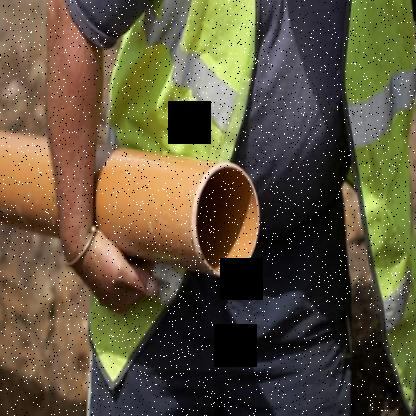pipe: (193, 162, 259, 277)
